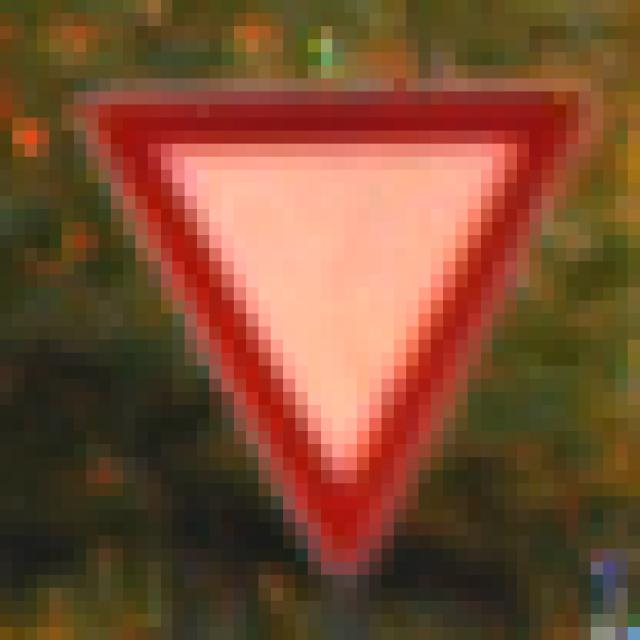Give Way: (63, 66, 567, 576)
